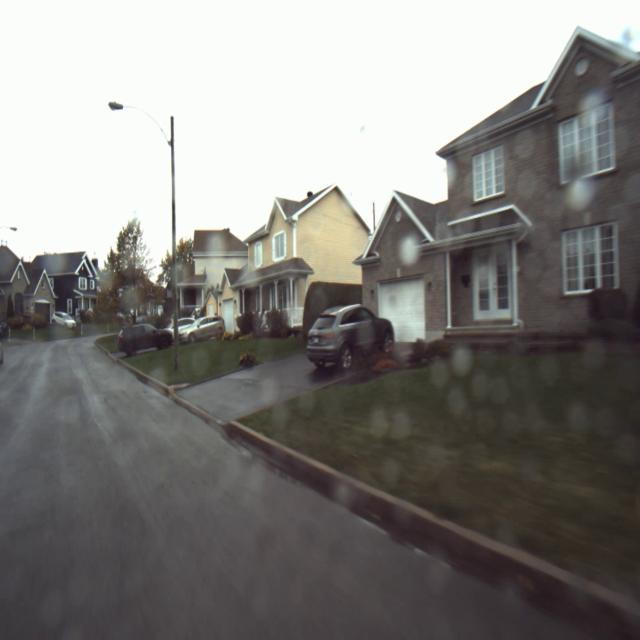car: (297, 295, 405, 382)
